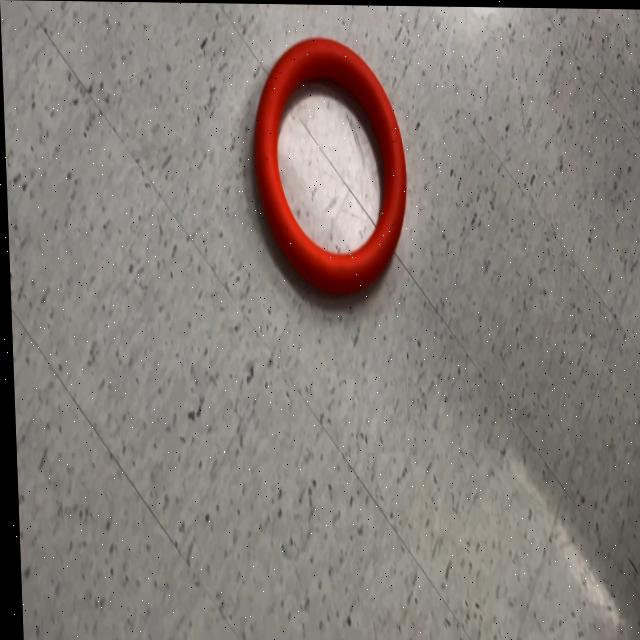note: (249, 34, 410, 304)
